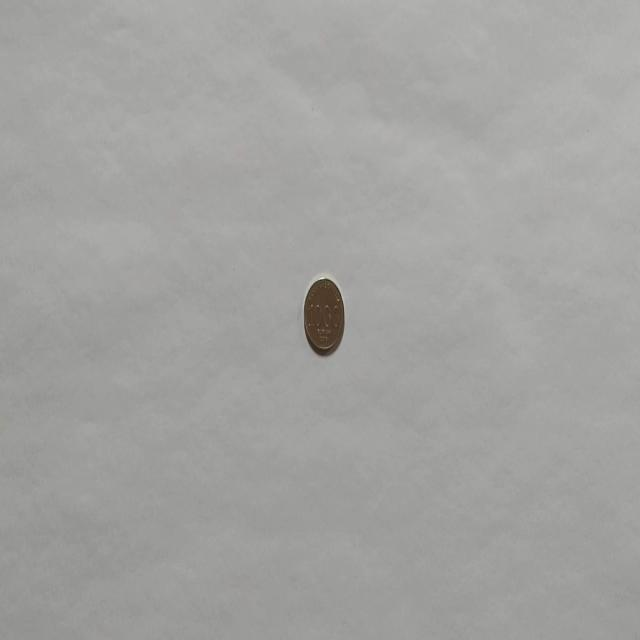seribu rupiah koin: (302, 274, 345, 356)
